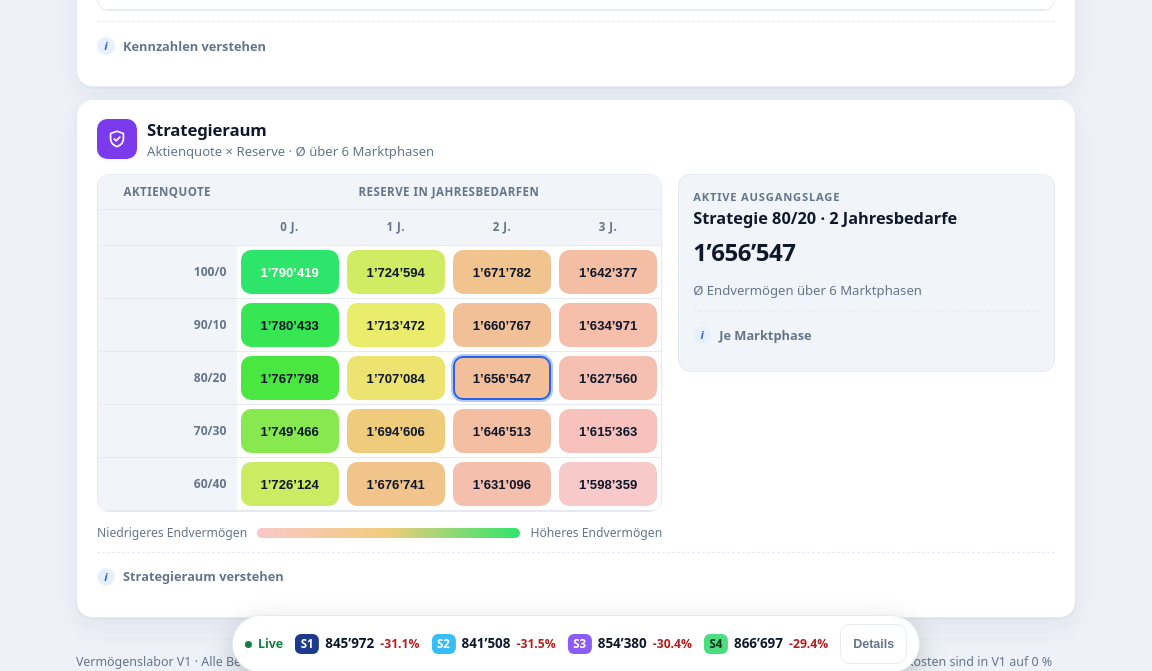
Test: R – Workflow (Labor → Details → Einstellungen) › R8: der Strategieraum wählt weder Strategie noch Marktszenario
(page scrolled)
Click the button with class "heat-cell" showing "1’713’472" at (396, 325), box [347,303,445,347]
(page scrolled)
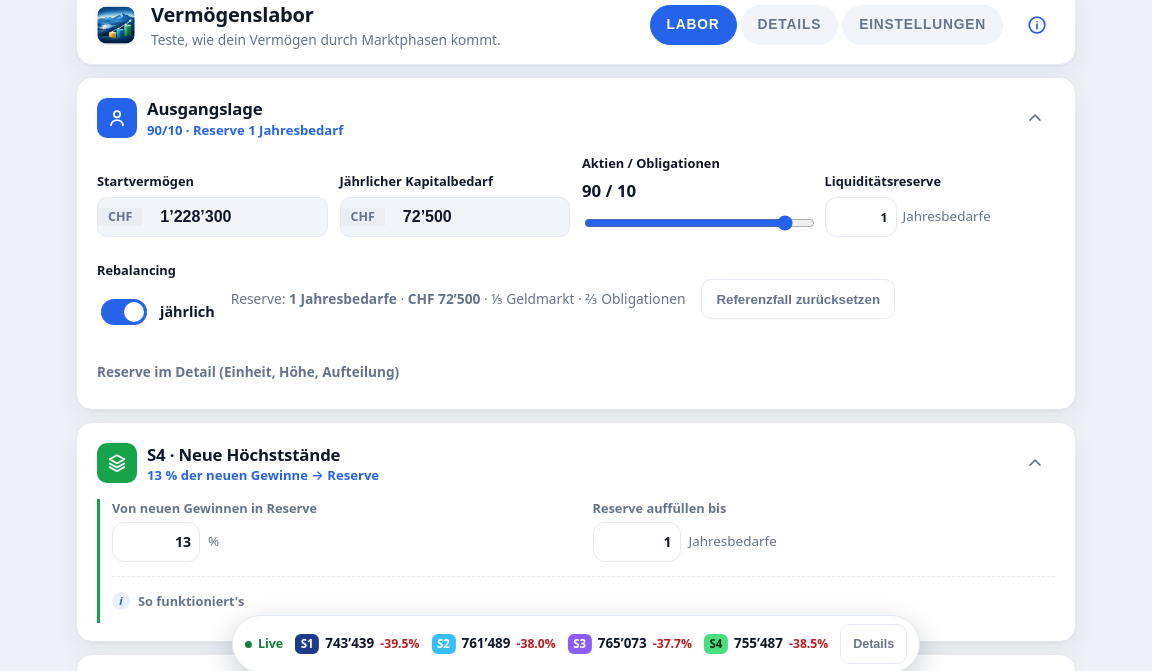
Click the 2nd button with class "mode-tab" at (789, 25), box [741,5,838,45]
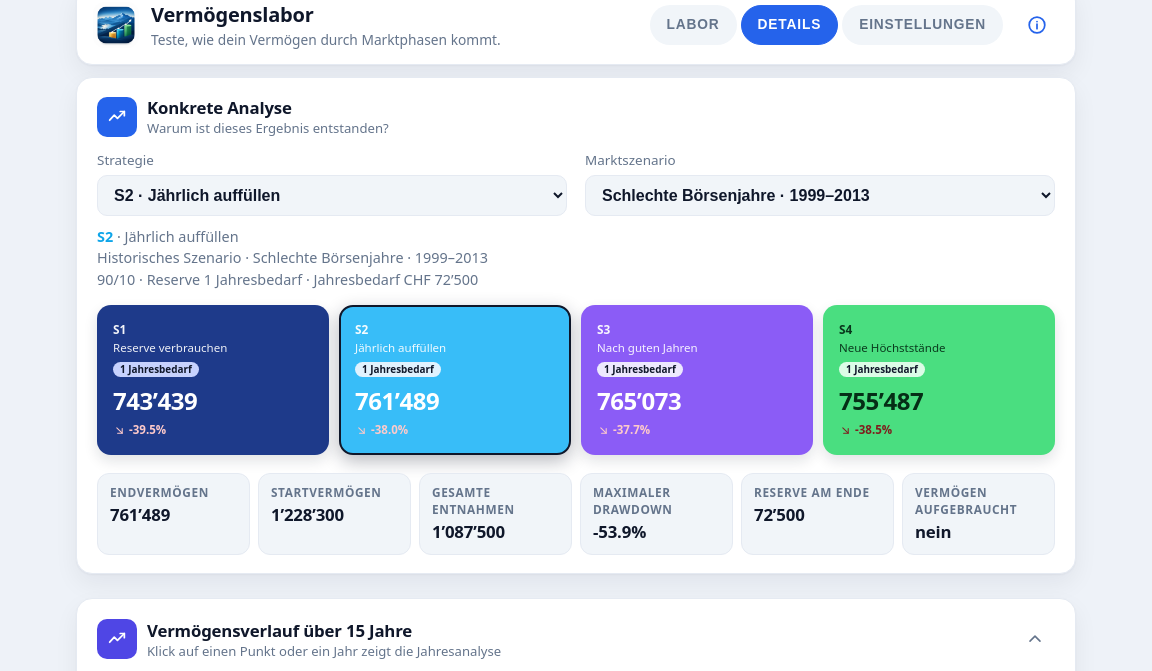
Check: the text "90/10 · Reserve 1 Jahresbedarf" is shown, box [97,227,488,289]
Check: the dropdown named "Strategie wählen" shows "S2 · Jährlich auffüllen", box [97,175,567,216]
Check: the dropdown named "Marktszenario wählen" shows "Schlechte Börsenjahre · 1999–2013", box [585,175,1055,216]
